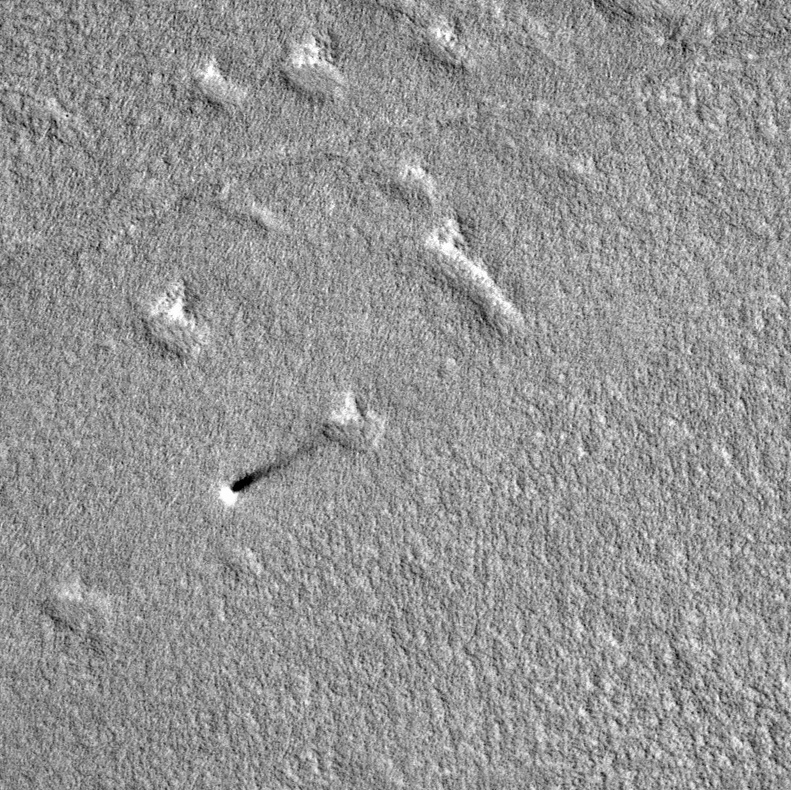dust_devil: (217, 427, 339, 509)
